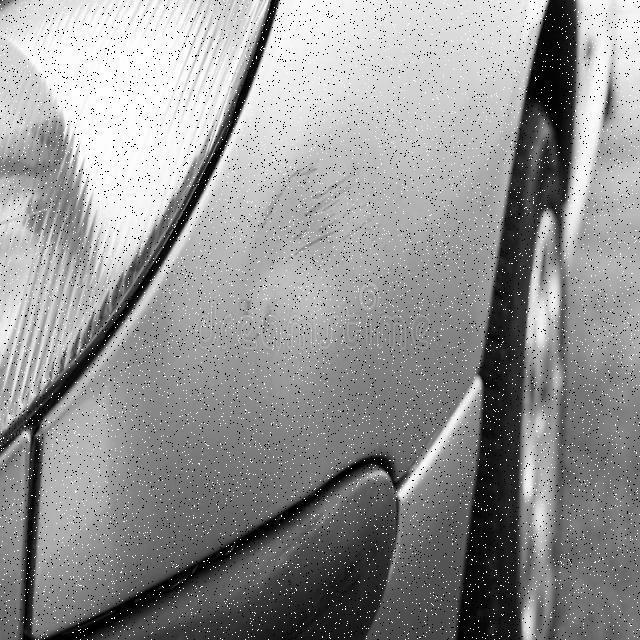front-bumper-dent: (69, 0, 608, 526)
